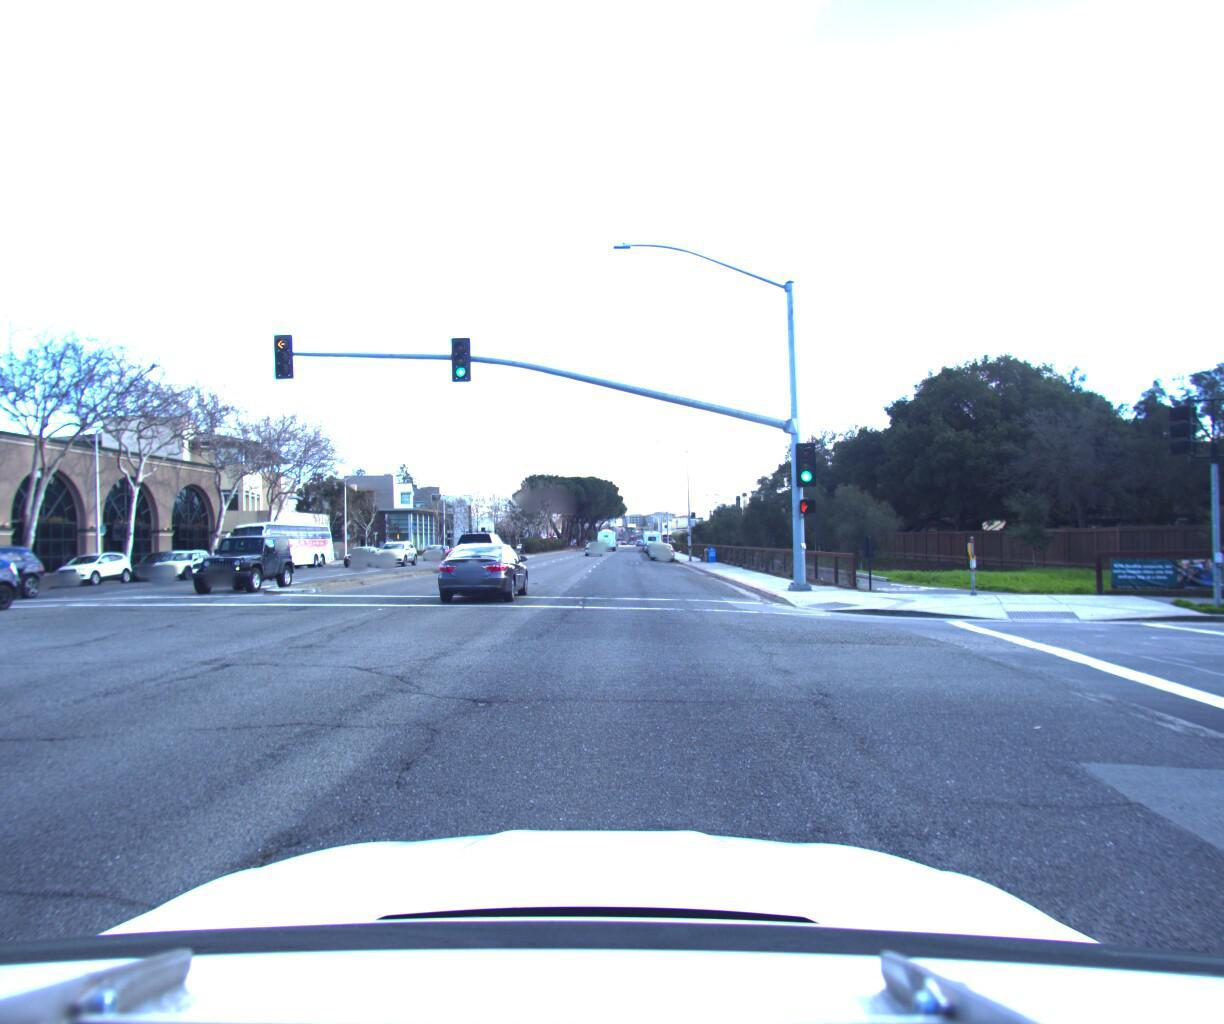bus: (221, 513, 339, 570)
car: (431, 530, 532, 602), (187, 529, 301, 591), (0, 539, 60, 602), (47, 545, 139, 583), (0, 542, 38, 620), (456, 522, 512, 566), (145, 541, 222, 574), (127, 541, 202, 574), (372, 532, 420, 560), (336, 533, 386, 558), (649, 536, 672, 553), (583, 530, 602, 546)
